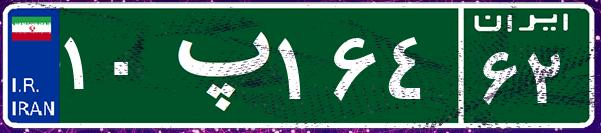0: (110, 28, 158, 105)
1: (273, 28, 330, 110), (57, 26, 110, 107)
2: (525, 38, 570, 115)
4: (385, 28, 445, 110)
6: (330, 28, 385, 110), (475, 38, 525, 113)
پ: (158, 15, 273, 115)
